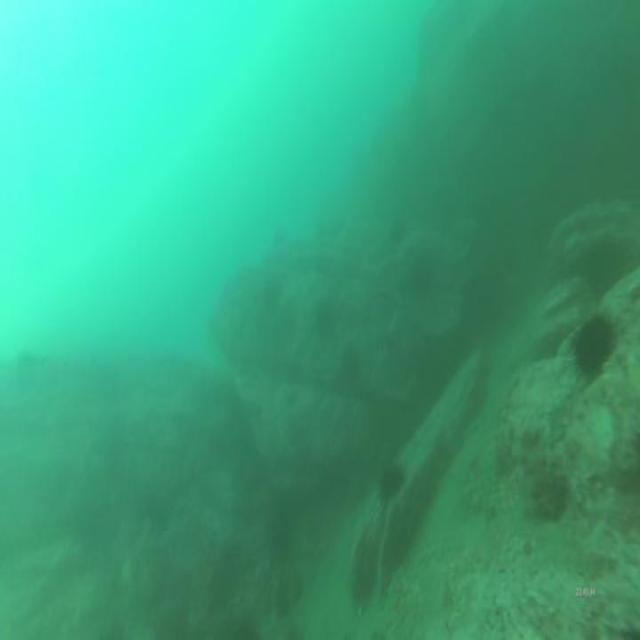echinus: (568, 310, 618, 384), (376, 458, 406, 509), (338, 335, 365, 384), (312, 291, 338, 340), (262, 268, 286, 310)
